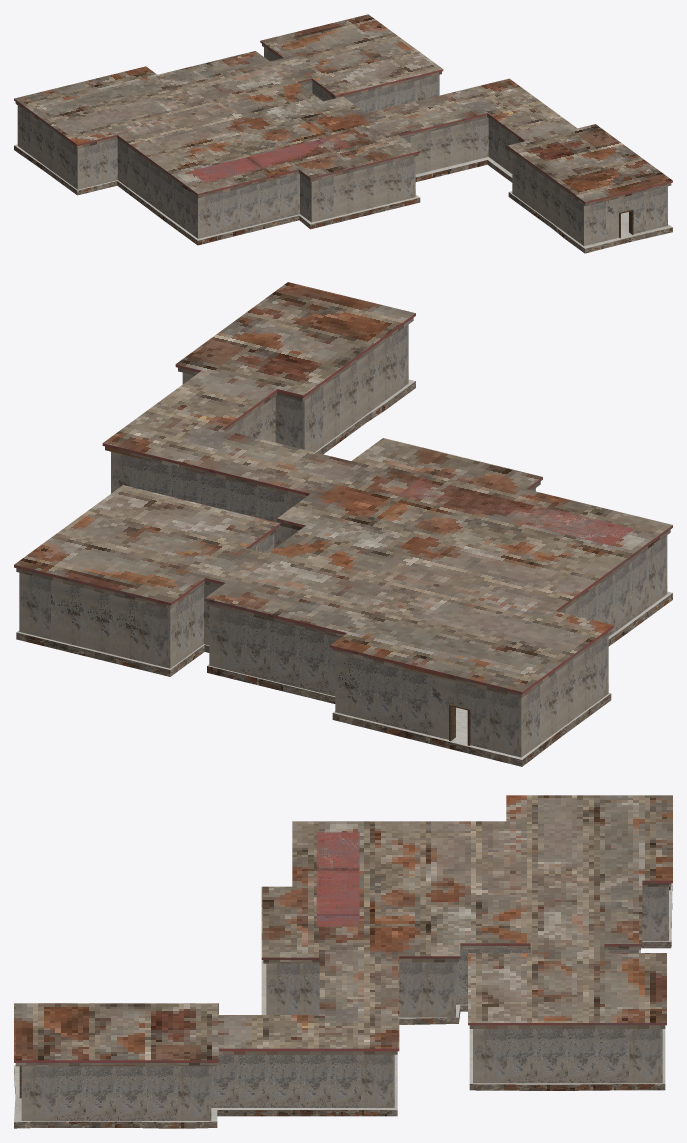
File: laboratory_concrete.glb
The picture shows the model from 3 angles, top to bottom: view 1: azimuth 30°, elevation 25°; view 2: azimuth 150°, elevation 25°; view 3: azimuth 270°, elevation 25°; orthographic projection. The views are drawn at different scales.
Parts seen in each view (by area): view 1: laboratory_concrete; view 2: laboratory_concrete; view 3: laboratory_concrete.
Boxes of the visible parts, x1=… form: laboratory_concrete: x1=14, y1=14, x2=672, y2=253; laboratory_concrete: x1=14, y1=282, x2=672, y2=766; laboratory_concrete: x1=14, y1=795, x2=672, y2=1128.
Size of the model in its own units: 41 by 4.92 by 43.1.
Materials: 1 (1 with a texture image).
